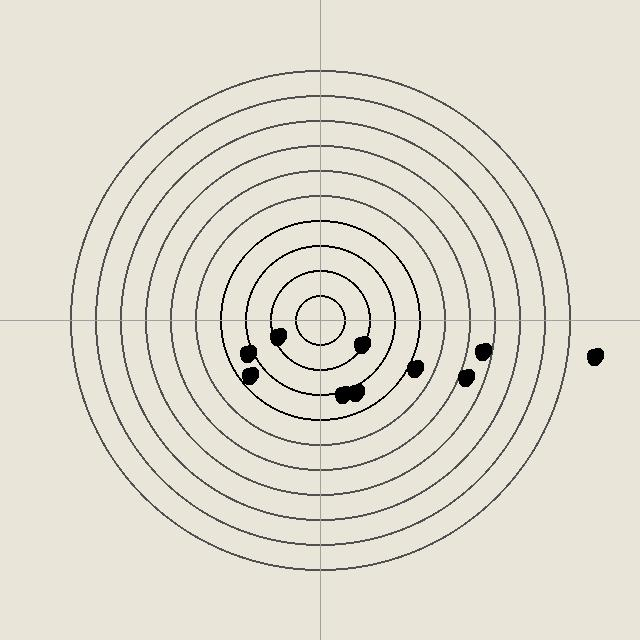horizontal_scatter: (472, 341, 492, 361), (332, 384, 352, 404), (584, 346, 604, 366), (404, 358, 424, 378), (237, 343, 257, 363), (345, 382, 365, 402), (239, 365, 259, 385), (267, 326, 287, 346), (455, 367, 475, 387), (351, 334, 371, 354)
